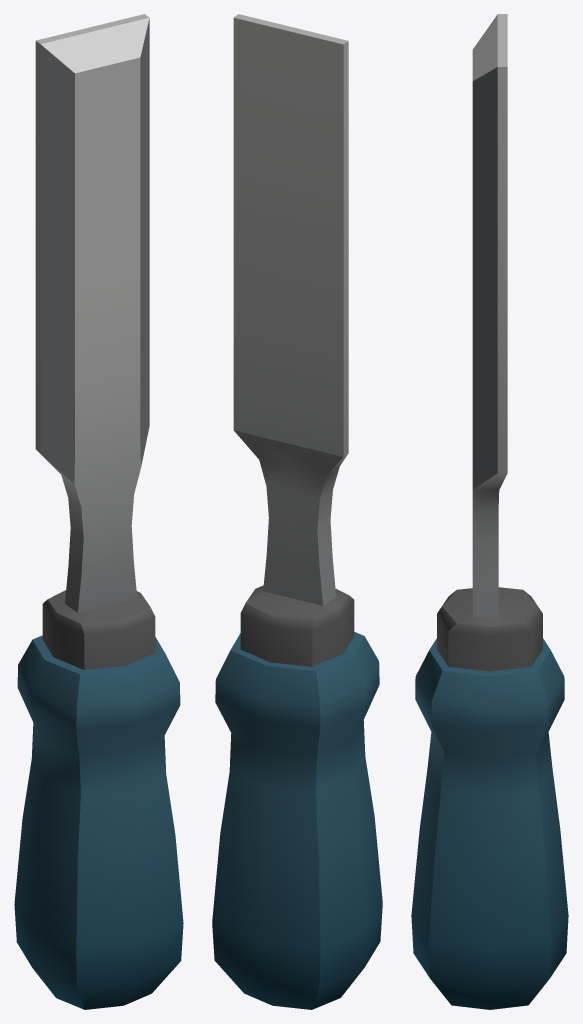
File: chisel.fbx
3 views of the same model, side by side, from view 1: azimuth 30°, elevation 25°; view 2: azimuth 150°, elevation 25°; view 3: azimuth 270°, elevation 25° (orthographic).
Visible parts, largest first — view 1: chisel; view 2: chisel; view 3: chisel.
Boxes of the visible parts, x1=… form: chisel: x1=14, y1=14, x2=183, y2=1009; chisel: x1=212, y1=14, x2=382, y2=1009; chisel: x1=411, y1=14, x2=568, y2=1009.
Bounding box in the file's own units: 1.26 × 8.36 × 1.26.
